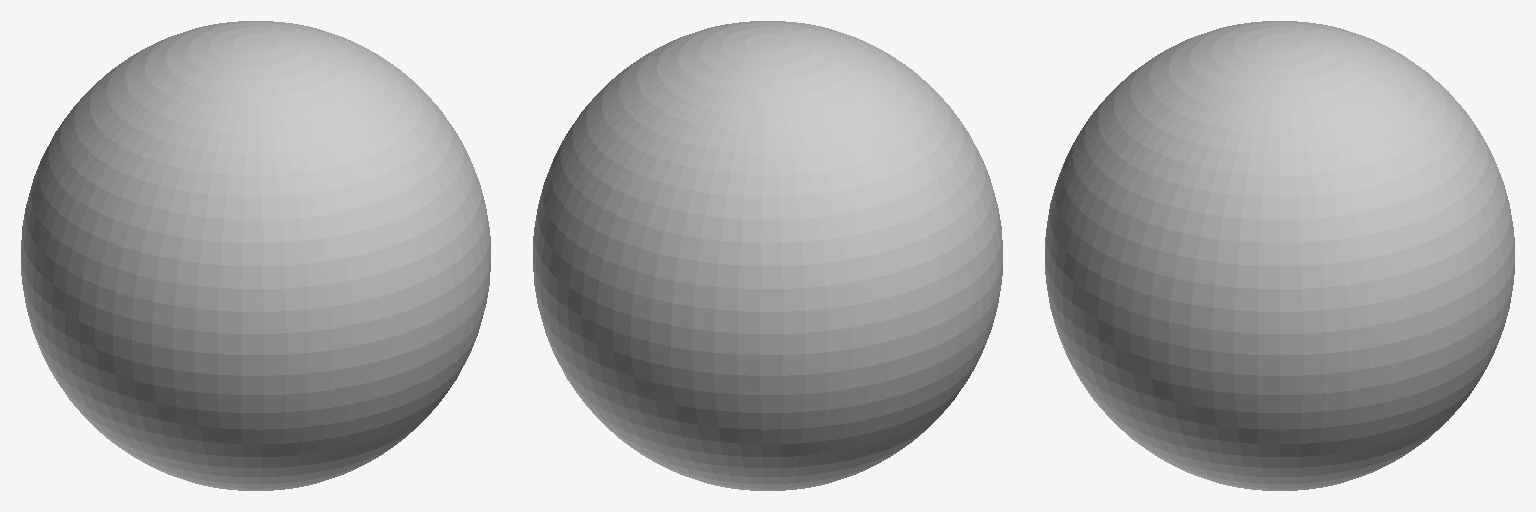
Rendered from CornellSphere.obj.
3 views of the same model, side by side, from view 1: azimuth 30°, elevation 25°; view 2: azimuth 150°, elevation 25°; view 3: azimuth 270°, elevation 25° (orthographic).
Visible parts, largest first — view 1: Sphere001; view 2: Sphere001; view 3: Sphere001.
Boxes of the visible parts, box(x1,y1,x2,y2) form: Sphere001: box(21, 21, 490, 490); Sphere001: box(533, 21, 1002, 490); Sphere001: box(1045, 21, 1514, 490).
Size of the model in its own units: 2.78 by 2.78 by 2.78.